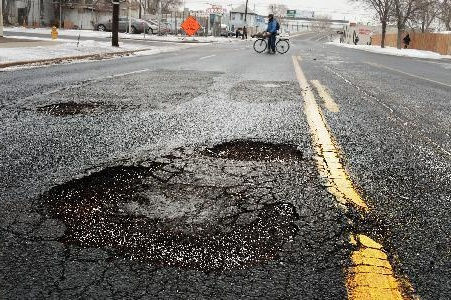pothole: (33, 158, 302, 274), (198, 137, 307, 163), (37, 98, 111, 117)
